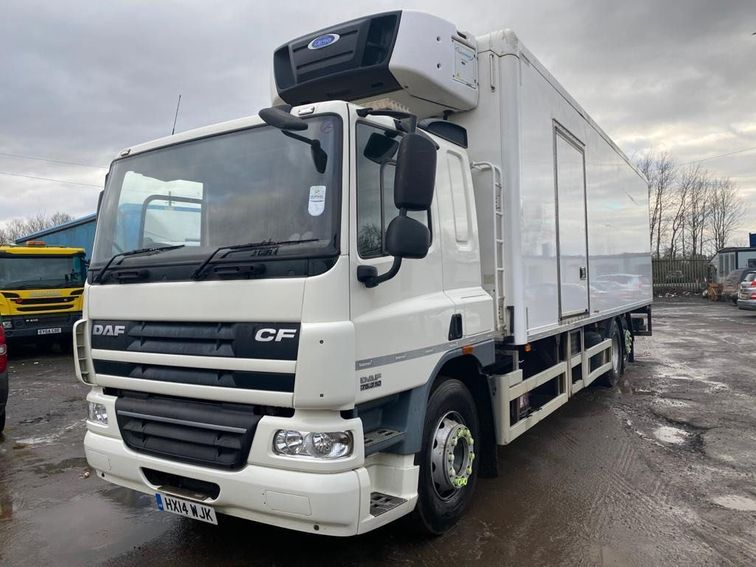Semi: (70, 9, 653, 539), (0, 240, 88, 348)
